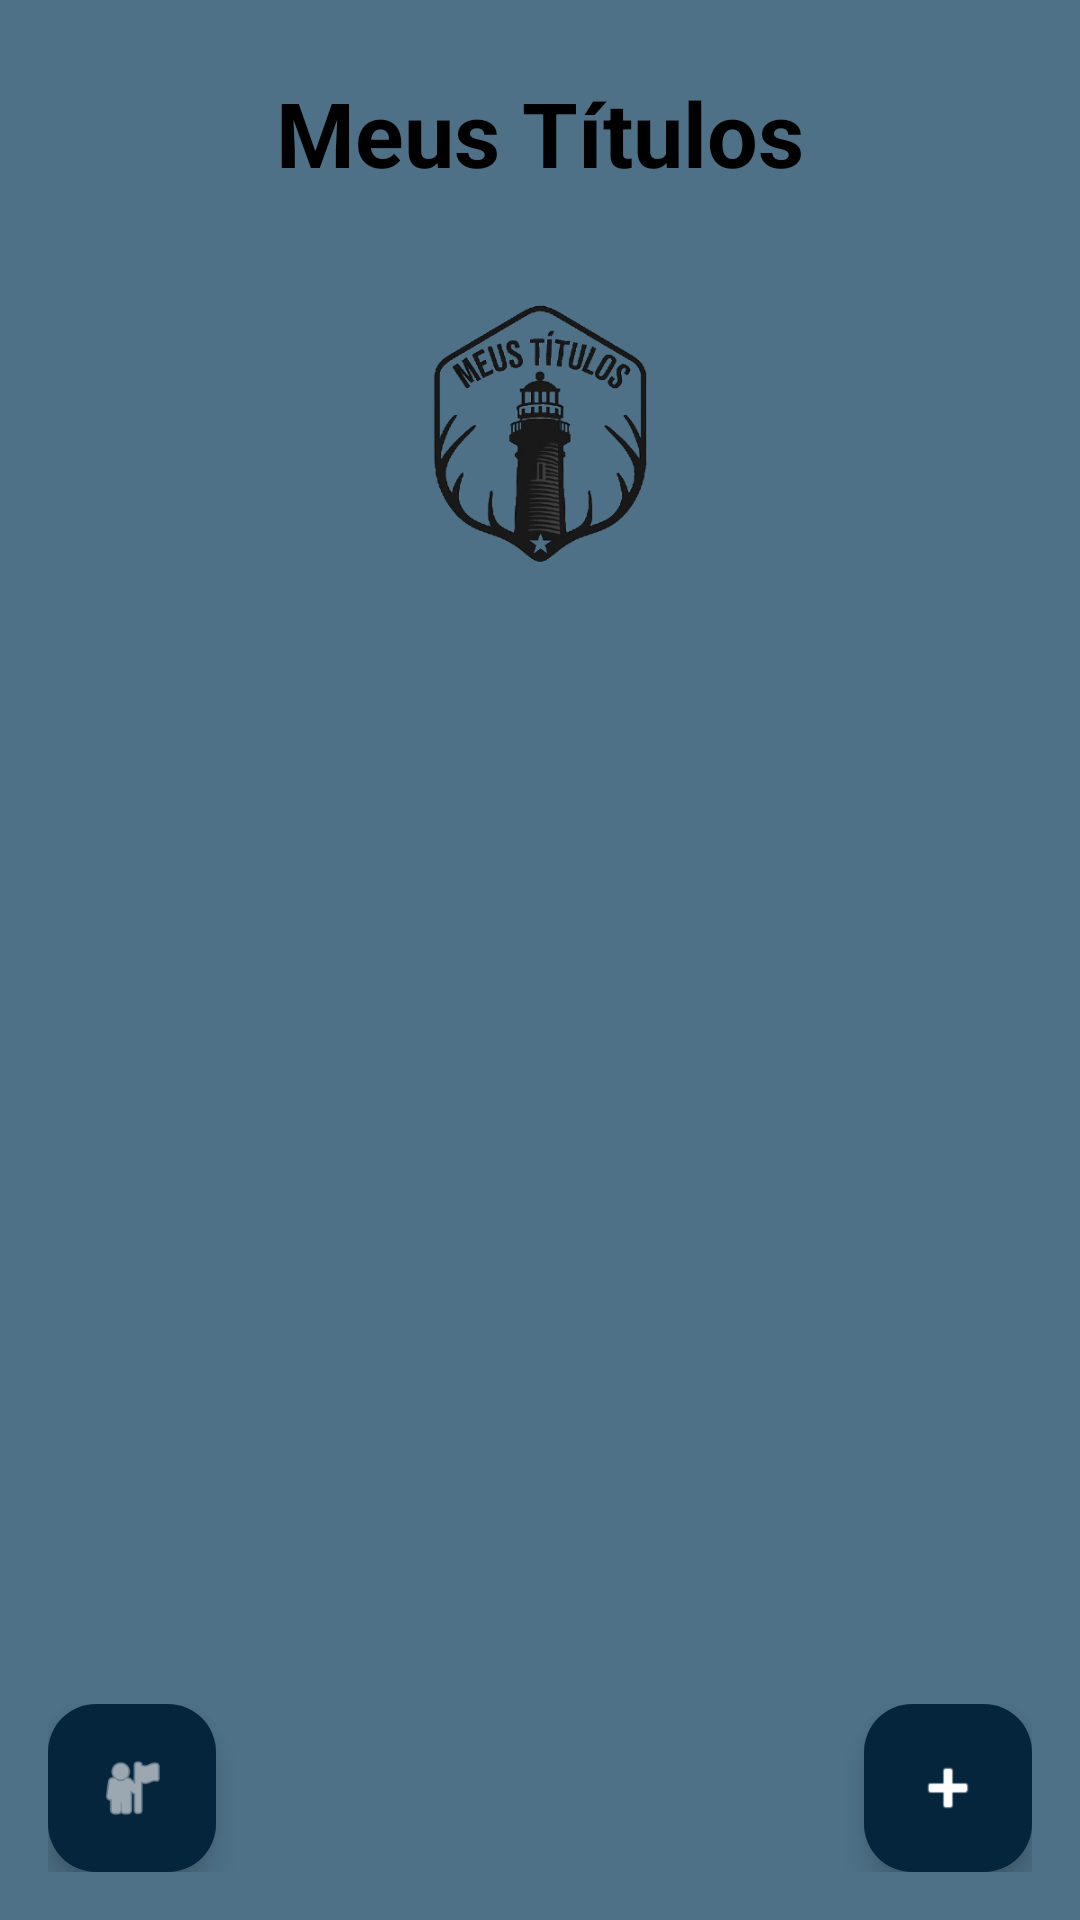

Where to tap for icons on this 1080w x 1920h app screen, as point (x, y):
Adicionar novo título: point (948, 1788)
Perfil de Usuário: point (132, 1788)
